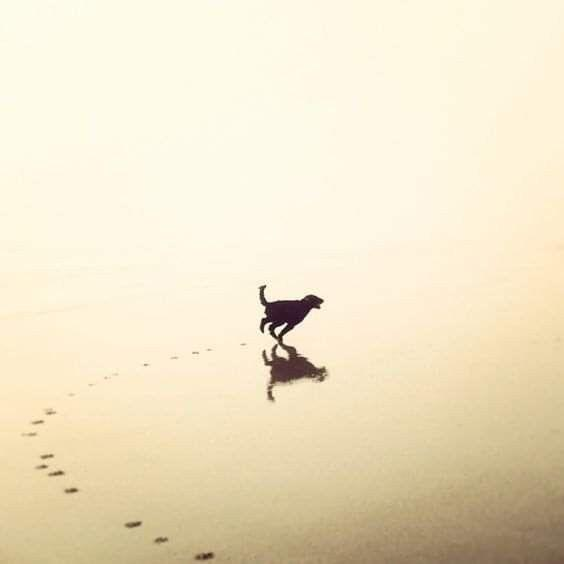adult_dog: (258, 282, 326, 342)
